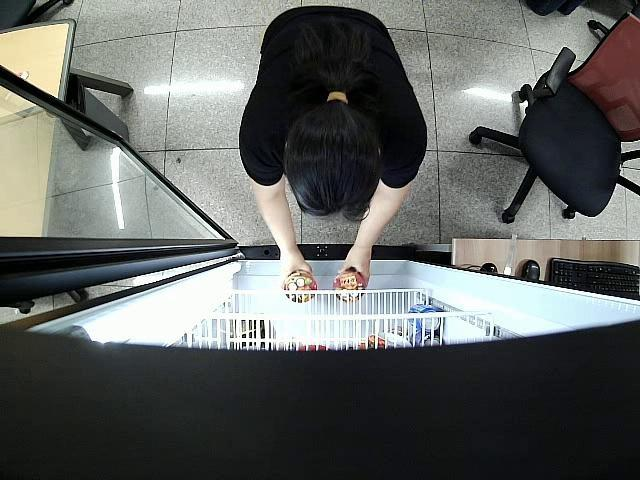06_nuguri_S: (280, 269, 316, 305), (332, 268, 366, 304)
